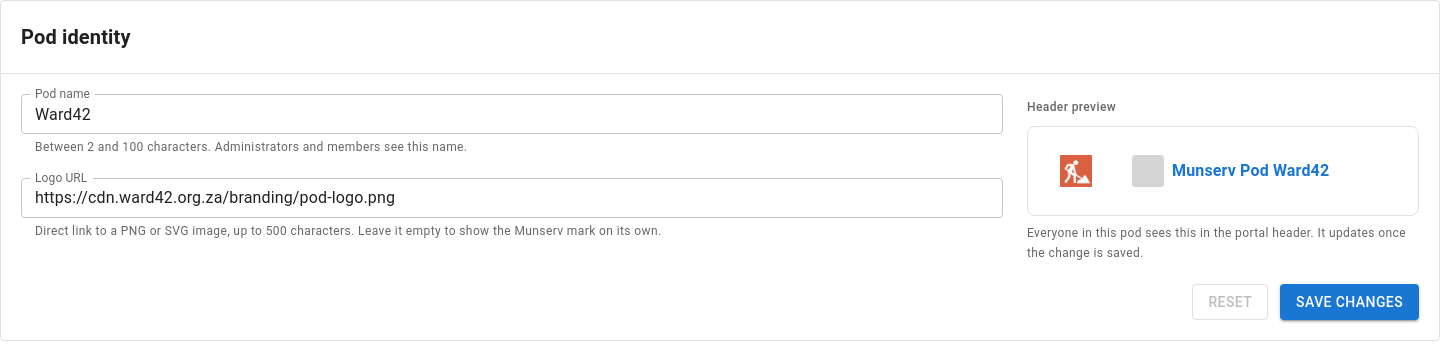
Test: PodIdentitySection › should reject a name shorter than two characters
Replace the text in the field labelled "Pod name" with "W" at x=512, y=114, box [21, 94, 1003, 134]
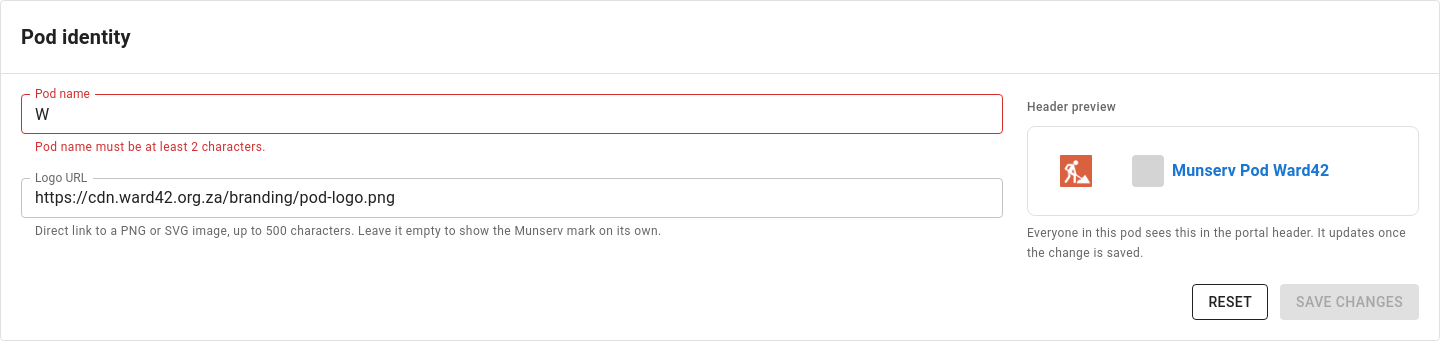
Check: the text "Pod name must be at least 2 characters." is shown, box [35, 140, 266, 154]
Check: the button "Save changes" is disabled, box [1280, 284, 1419, 320]
